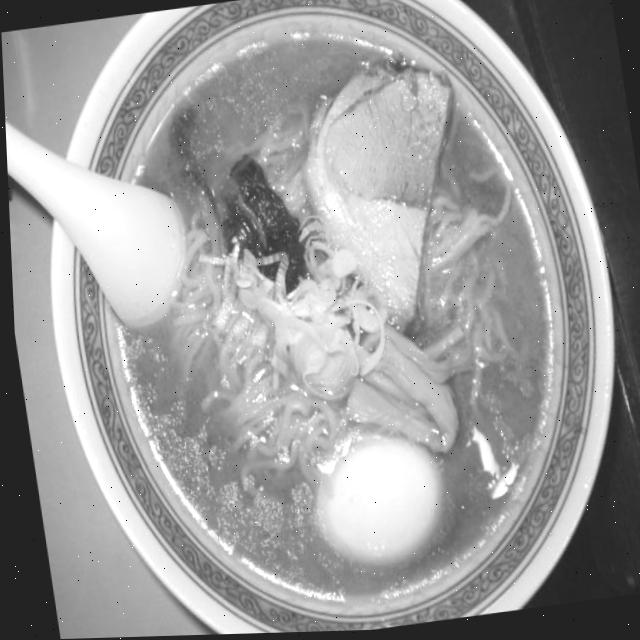面条主食: (0, 0, 590, 615)
